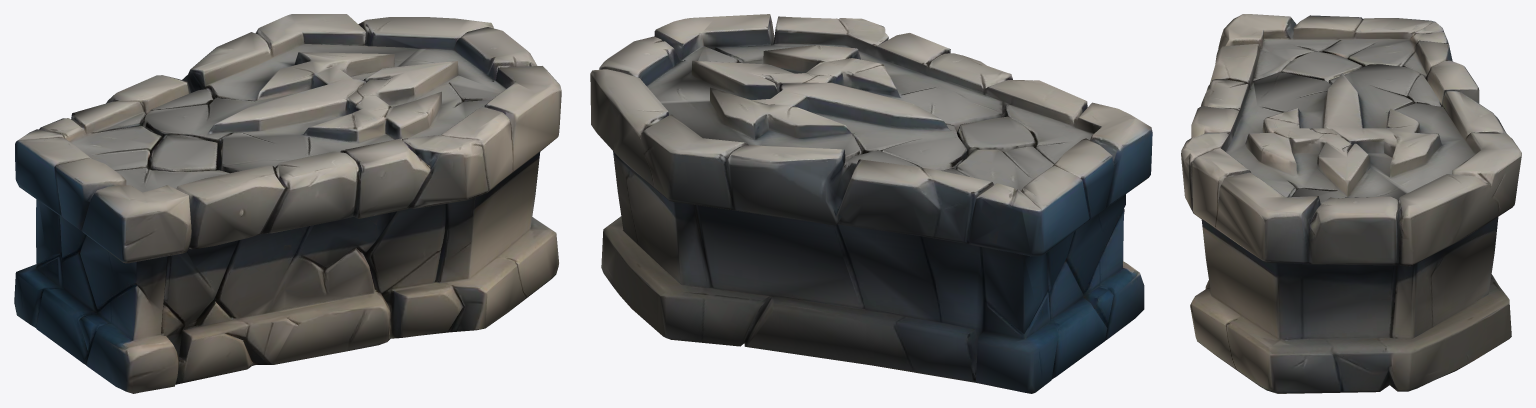
The model's file is coffin.opt.glb.
3 renders of one model, left to right at view 1: azimuth 30°, elevation 25°; view 2: azimuth 150°, elevation 25°; view 3: azimuth 270°, elevation 25°, orthographic. The views are drawn at different scales.
Visible parts, largest first — view 1: node_0; view 2: node_0; view 3: node_0.
Part boxes in pixels (x1,y1,x2,y2): node_0: (14,14,561,393); node_0: (590,14,1152,393); node_0: (1181,14,1521,393).
Bounding box in the file's own units: 1.04 × 0.431 × 0.7143.
1 material, 1 textured.
